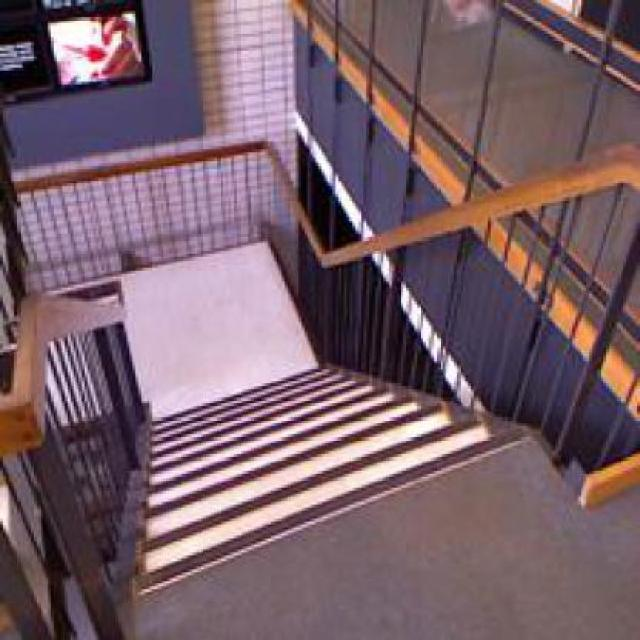stair: (135, 420, 515, 606)
